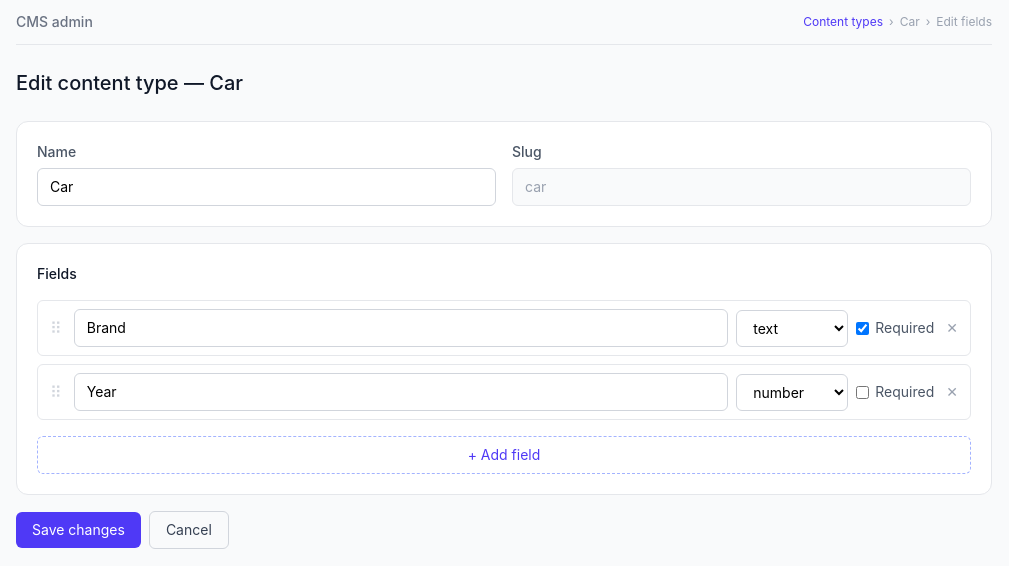
Scenario: EditContentType › shows "Field name is required" when a field has no name
The image size is (1009, 566).
Clear the 1st field showing "Brand" at point(401, 328), box [74,309,728,347]
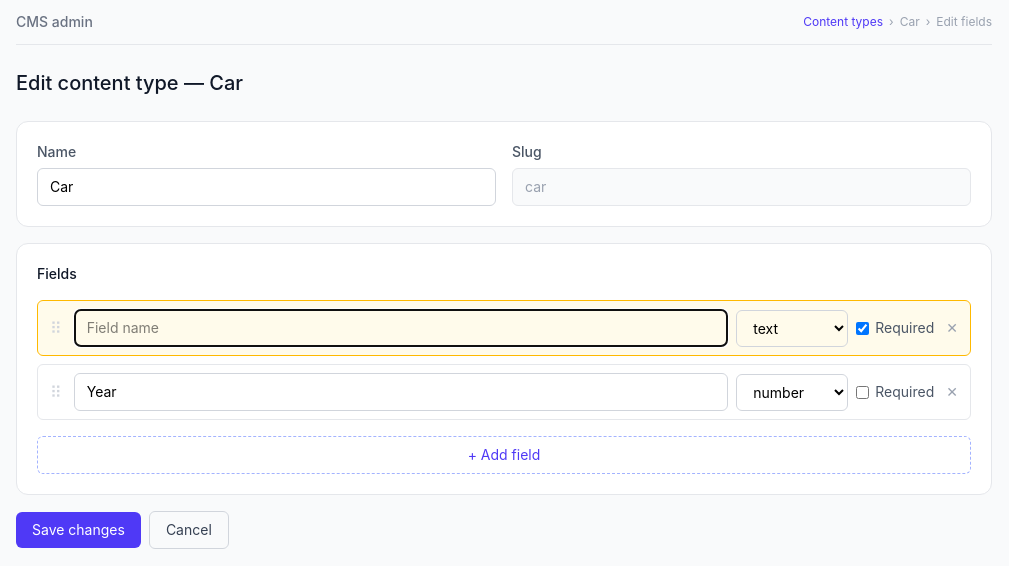
Submit the form
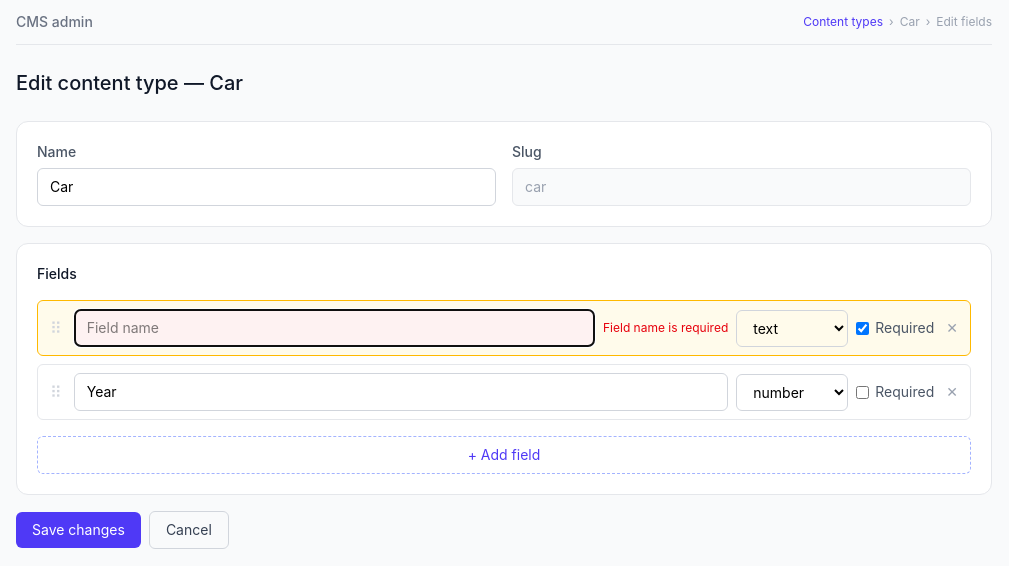
Result: the text "Field name is required" is shown at [603,320,728,336]
